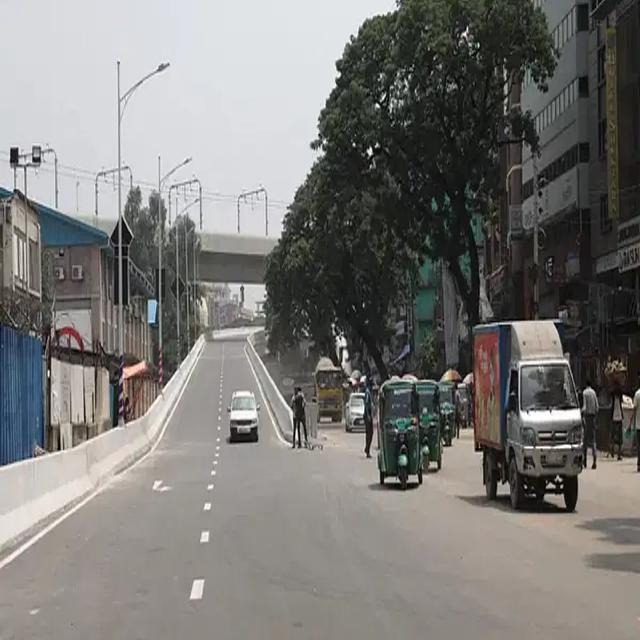car: (491, 315, 589, 516), (223, 386, 266, 457)
